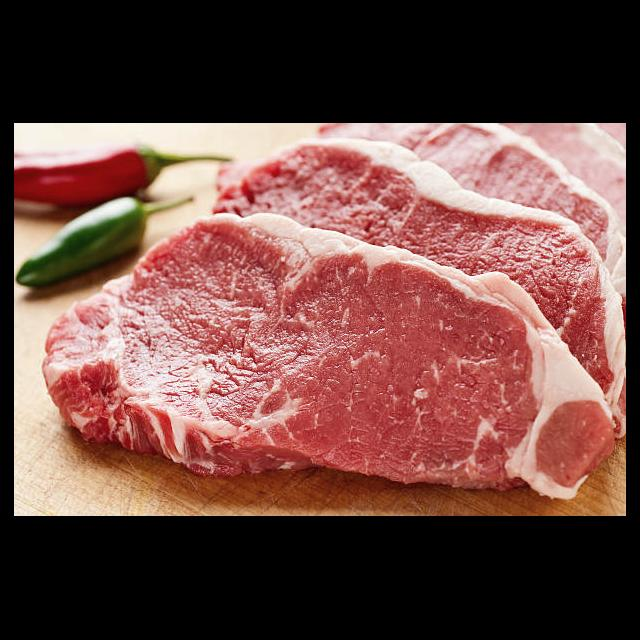beef: (43, 128, 626, 502)
